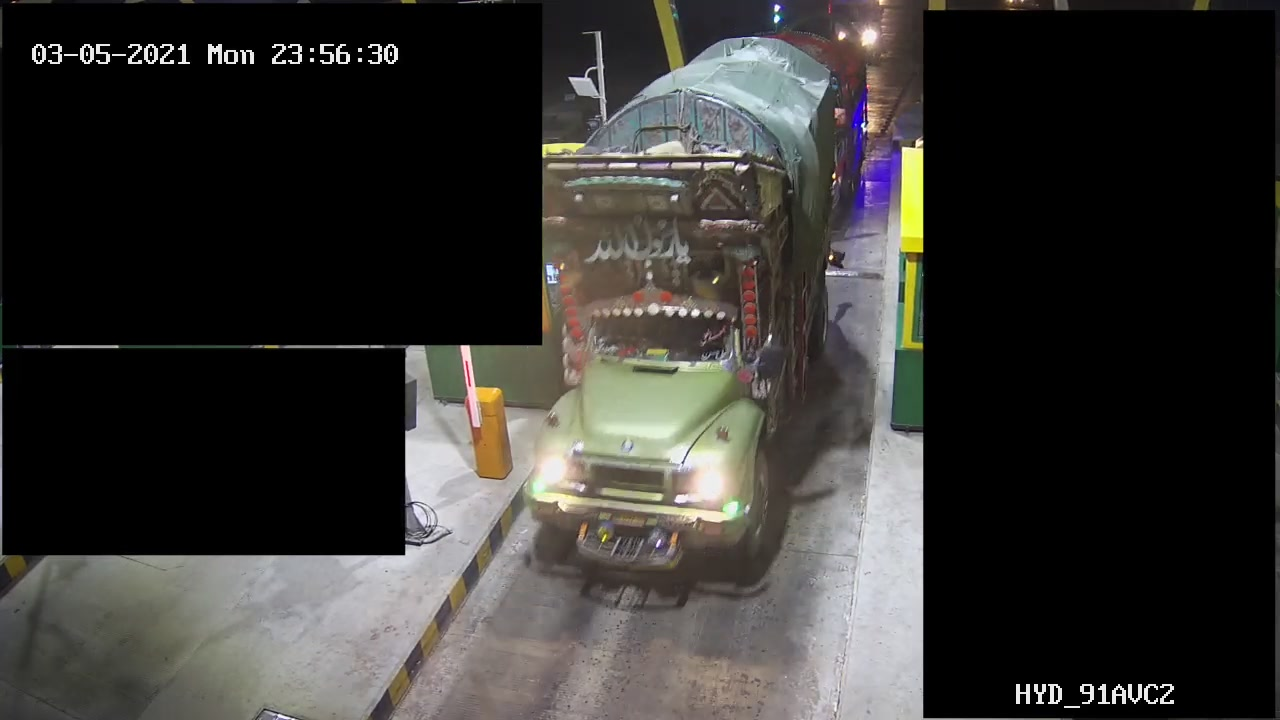F5: (522, 32, 831, 579)
